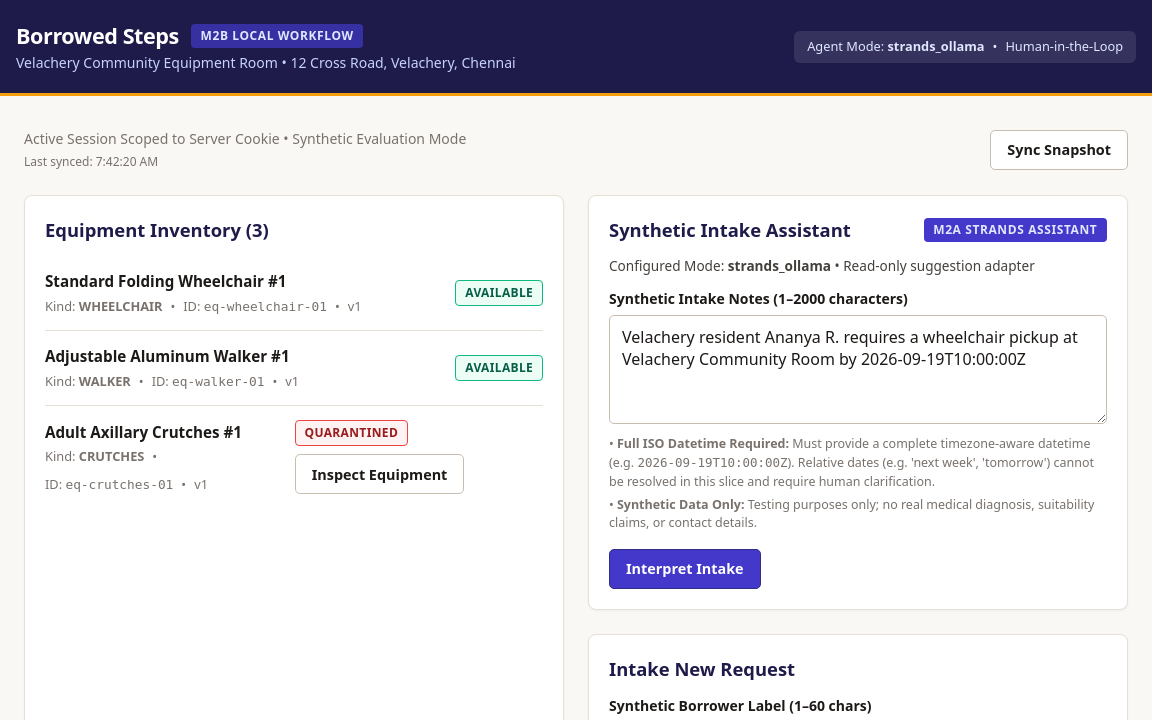
Test: Codex Review Regressions (BS-002-R2 / BS-002-R3) › review R2: renders 422 refusal INSIDE inspection dialog without closing
Click the button with aria-label "Inspect Adult Axillary Crutches". click: (380, 474)
box: [295, 454, 464, 494]
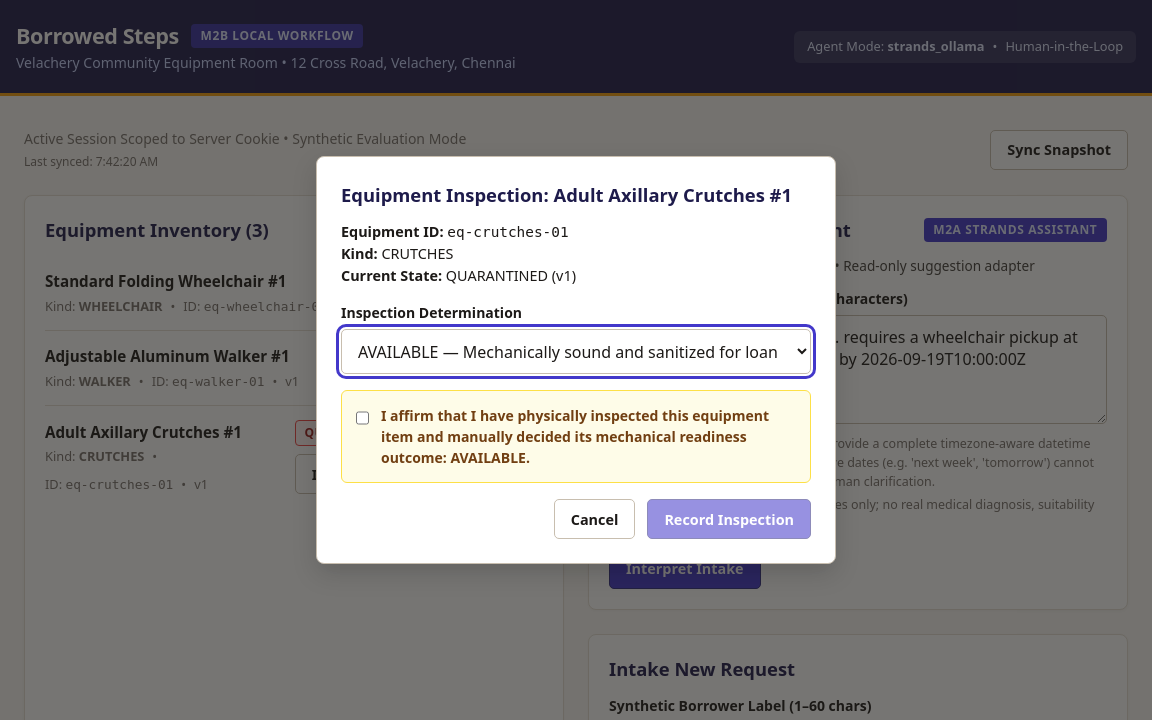
Click the checkbox. click: (362, 418)
box: [356, 408, 369, 428]
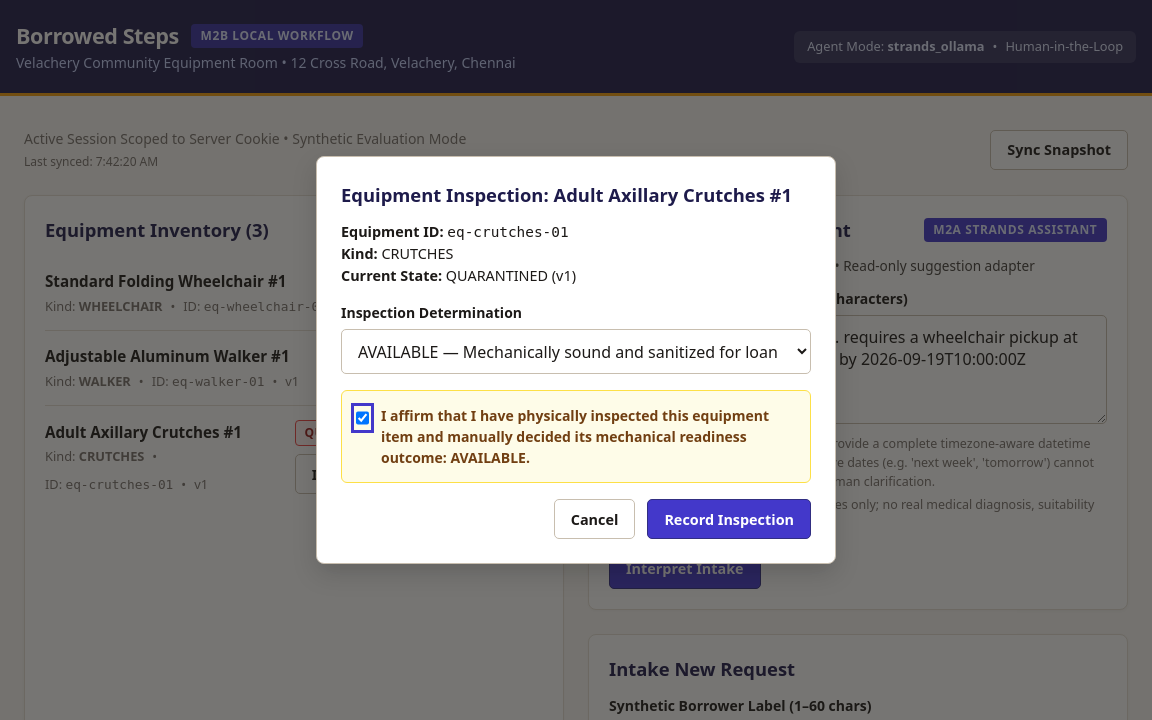
Expected: the checkbox is checked, [356, 408, 369, 428]
Click the button "Record Inspection". click: (729, 519)
box: [647, 499, 811, 539]
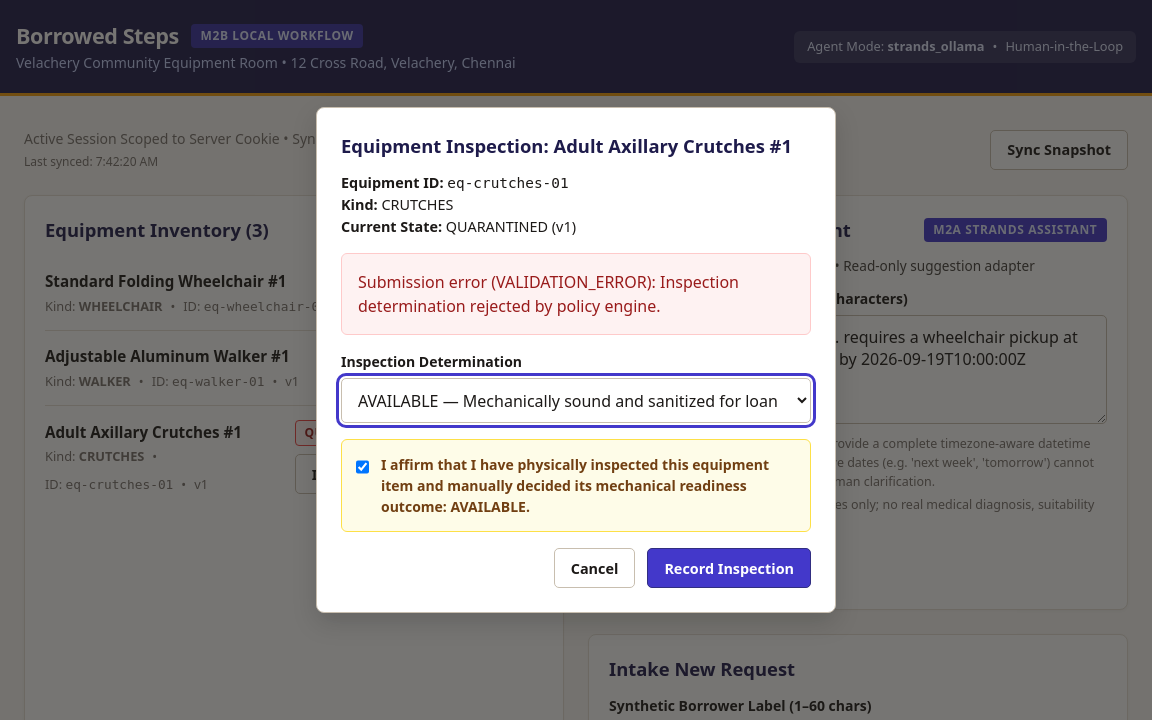
Expected: the checkbox is checked, [356, 456, 369, 476]
Expected: the dialog is shown
Expected: the message shows "Inspection determination rejected by policy engine", [358, 271, 739, 317]
